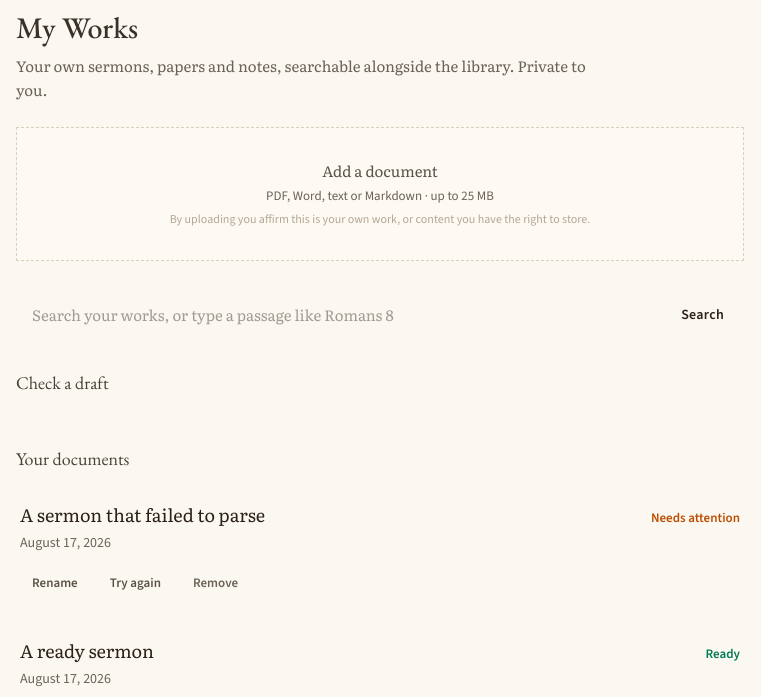
Test: D16 — the server's sentences reach the screen › a 409 on retry surfaces the server's own message
Click the button "Try again" at (135, 583), box [98, 561, 173, 605]
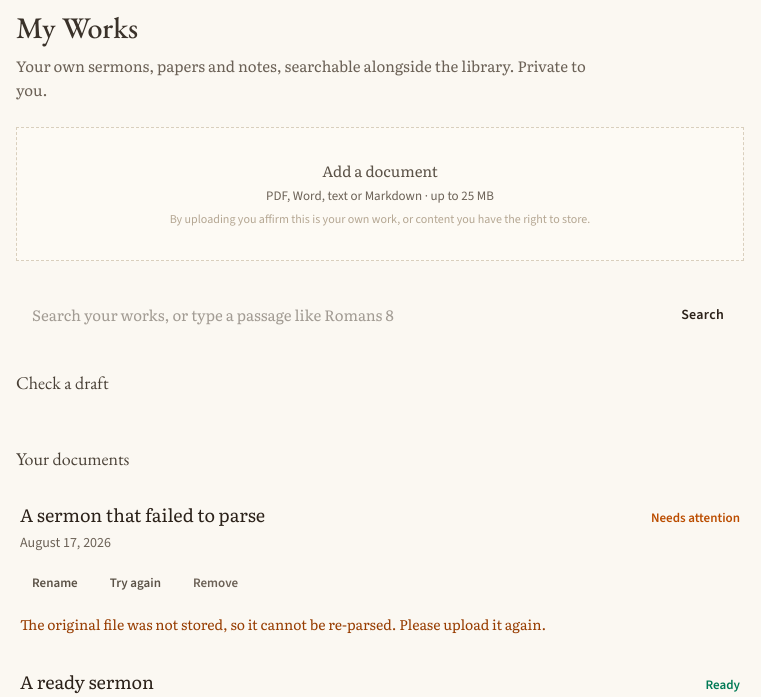
Expected: the text "was not stored, so it cannot be re-parsed" is shown, [20, 614, 546, 634]
